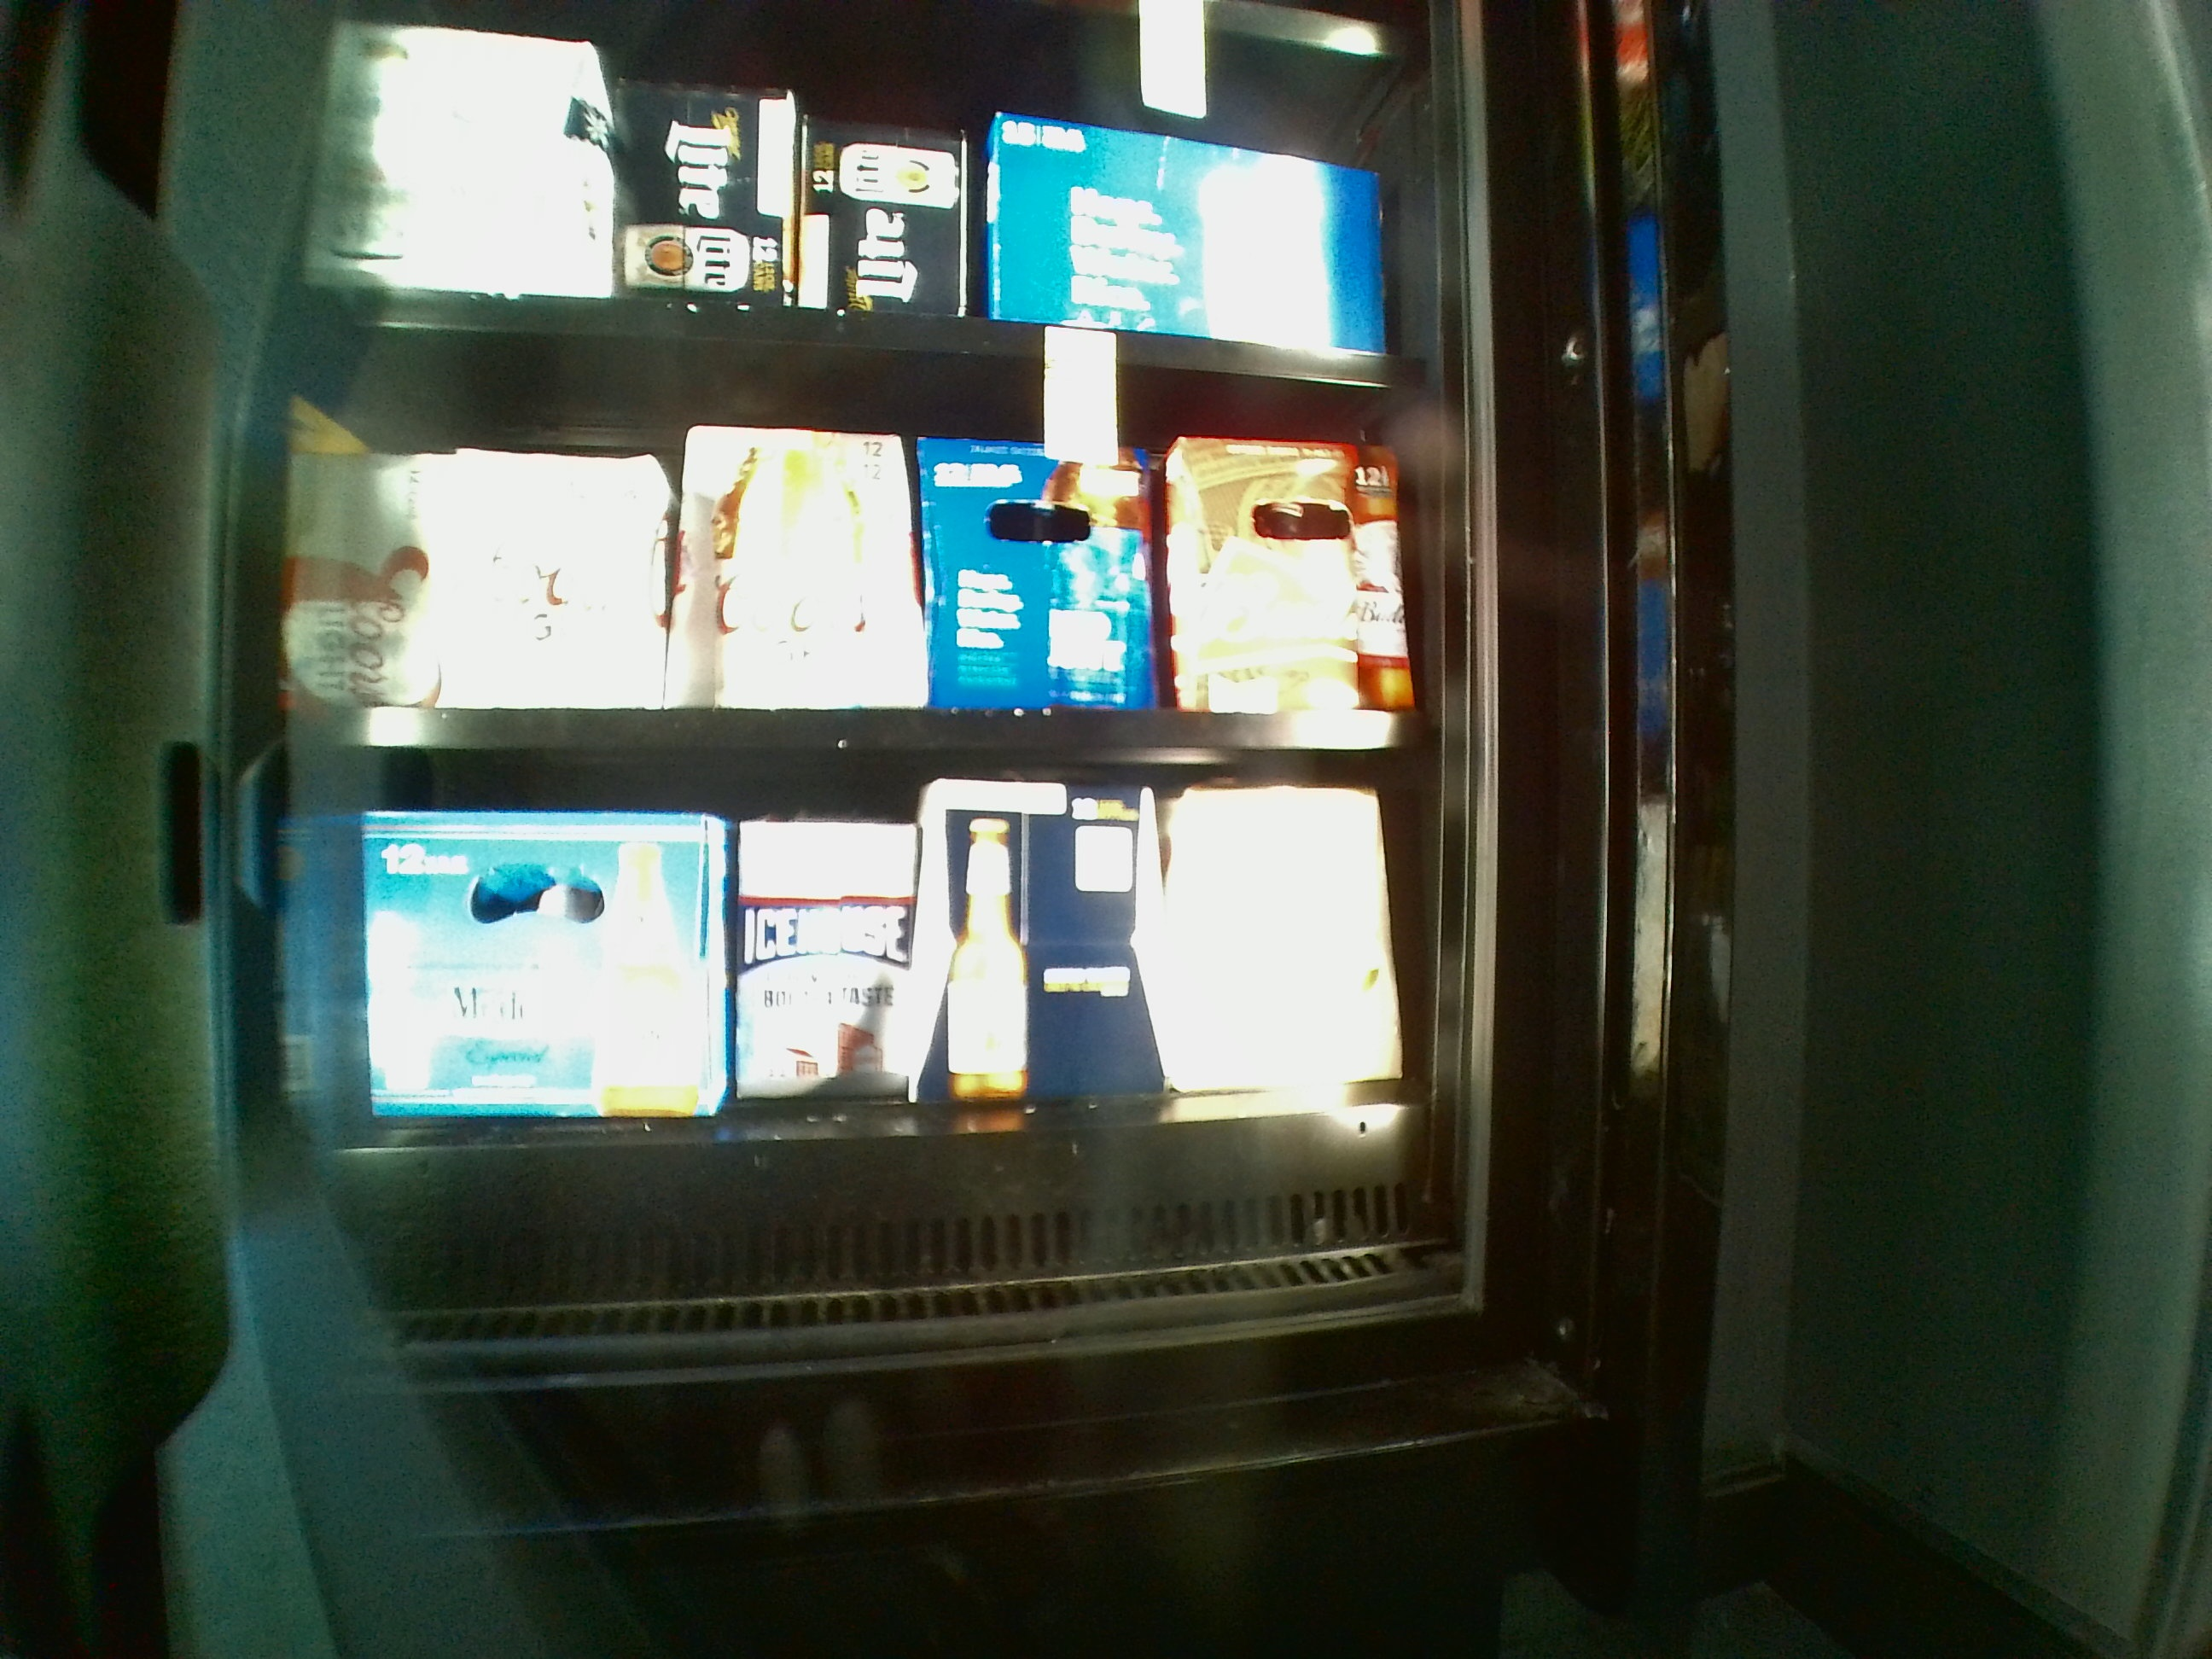shelf: (322, 748, 1425, 1338), (317, 361, 1411, 756), (322, 7, 1397, 376)
